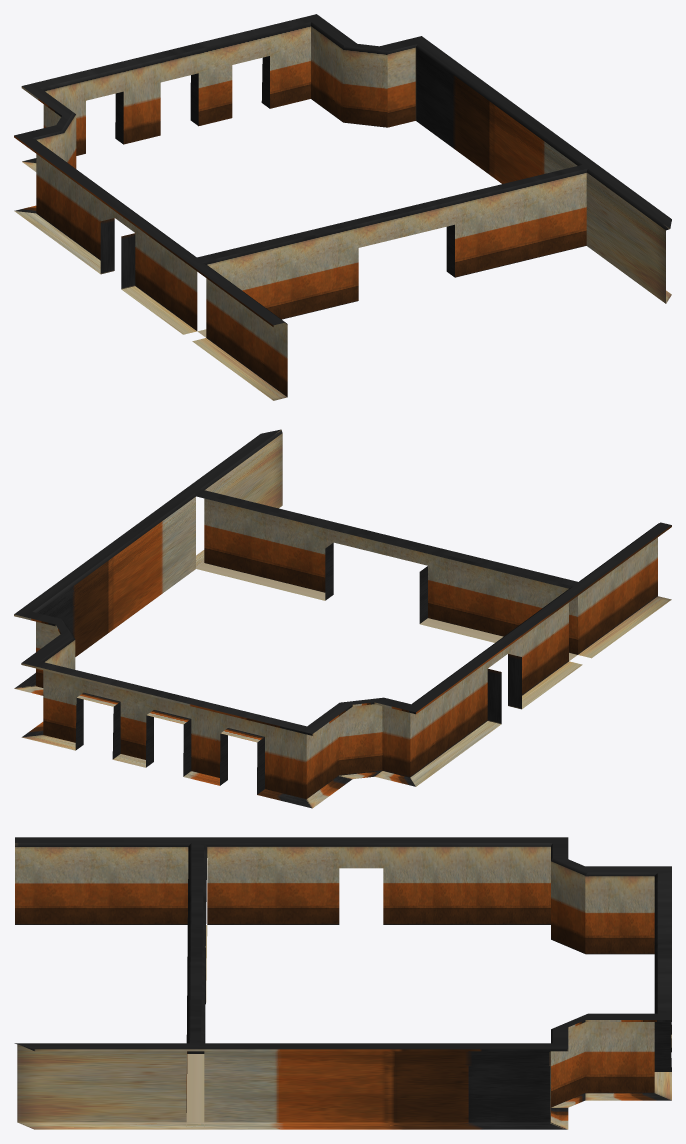
The model's file is RoomTest.fbx.
3 views of the same model, one above another, from view 1: azimuth 30°, elevation 25°; view 2: azimuth 150°, elevation 25°; view 3: azimuth 270°, elevation 25° (orthographic). The views are drawn at different scales.
Parts seen in each view (by area): view 1: pCube1; view 2: pCube1; view 3: pCube1.
Part boxes in pixels (box(x1,y1,x2,y2)): pCube1: box(14, 14, 671, 400); pCube1: box(14, 429, 671, 808); pCube1: box(14, 837, 671, 1129).
Bounding box in the file's own units: 290 × 51.28 × 380.
